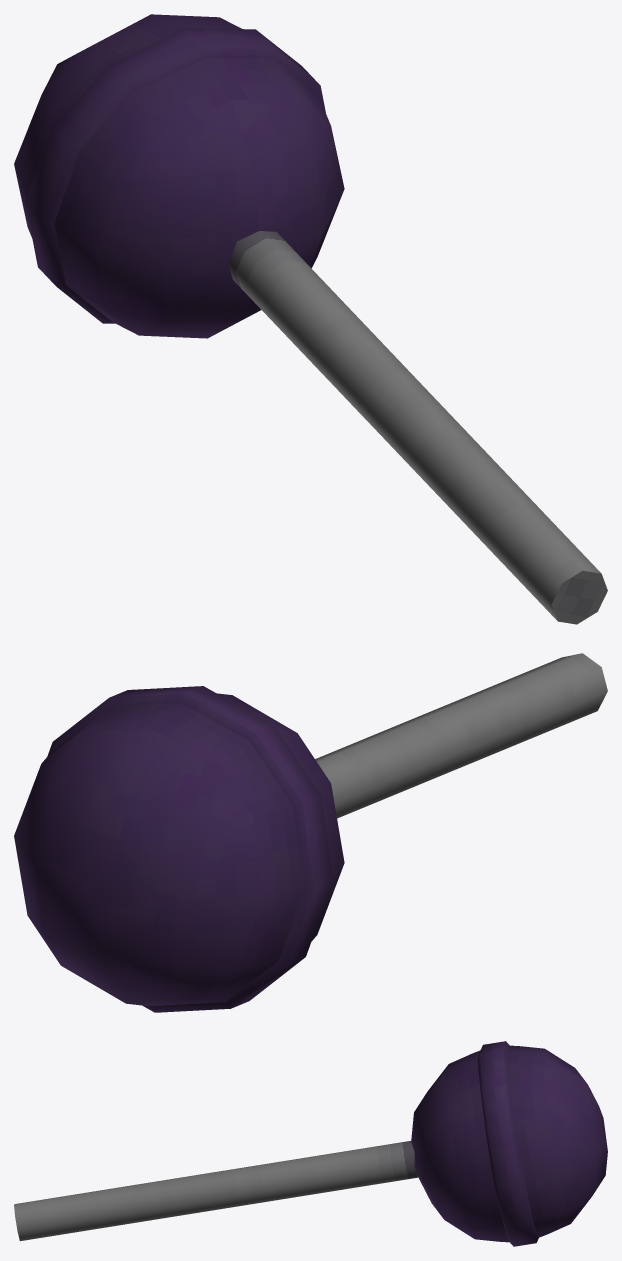
File: lollipop_mp_1_3.glb
3 views of the same model, one above another, from view 1: azimuth 30°, elevation 25°; view 2: azimuth 150°, elevation 25°; view 3: azimuth 270°, elevation 25° (orthographic). The views are drawn at different scales.
Visible parts, largest first — view 1: lollipop_mp_1_3; view 2: lollipop_mp_1_3; view 3: lollipop_mp_1_3.
Part boxes in pixels (x1,y1,x2,y2): lollipop_mp_1_3: (14, 14, 607, 624); lollipop_mp_1_3: (14, 653, 607, 1012); lollipop_mp_1_3: (14, 1041, 607, 1246).
Size of the model in its own units: 0.0461 by 0.0471 by 0.1337.
1 material, 1 textured.
